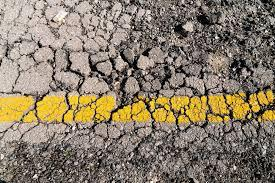alligator-crack: (2, 2, 275, 183)
